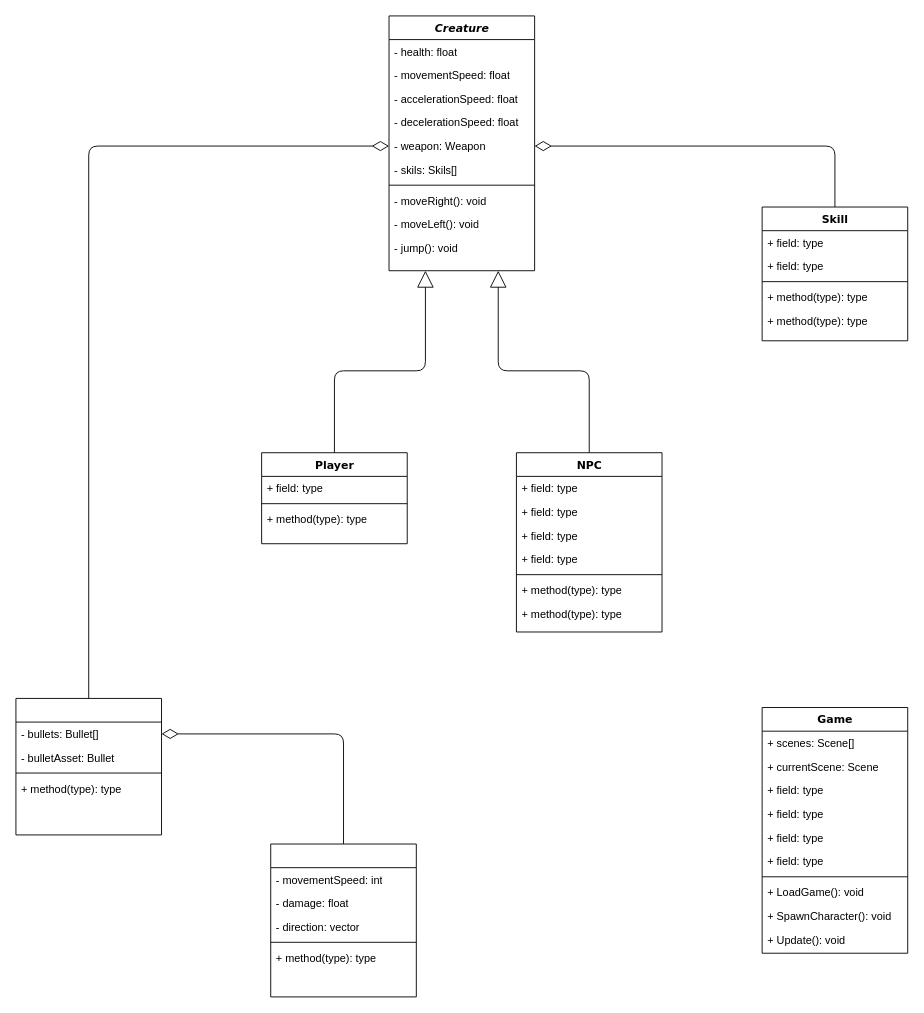
The diagram is 924 pixels wide and 1013 high, and some of its shapes have lost their labels. The box of each missing label's shape, as (x1, y1, x2, y2) in pixels:
Bullet: (270, 843, 416, 997)
Weapon: (15, 698, 162, 835)
